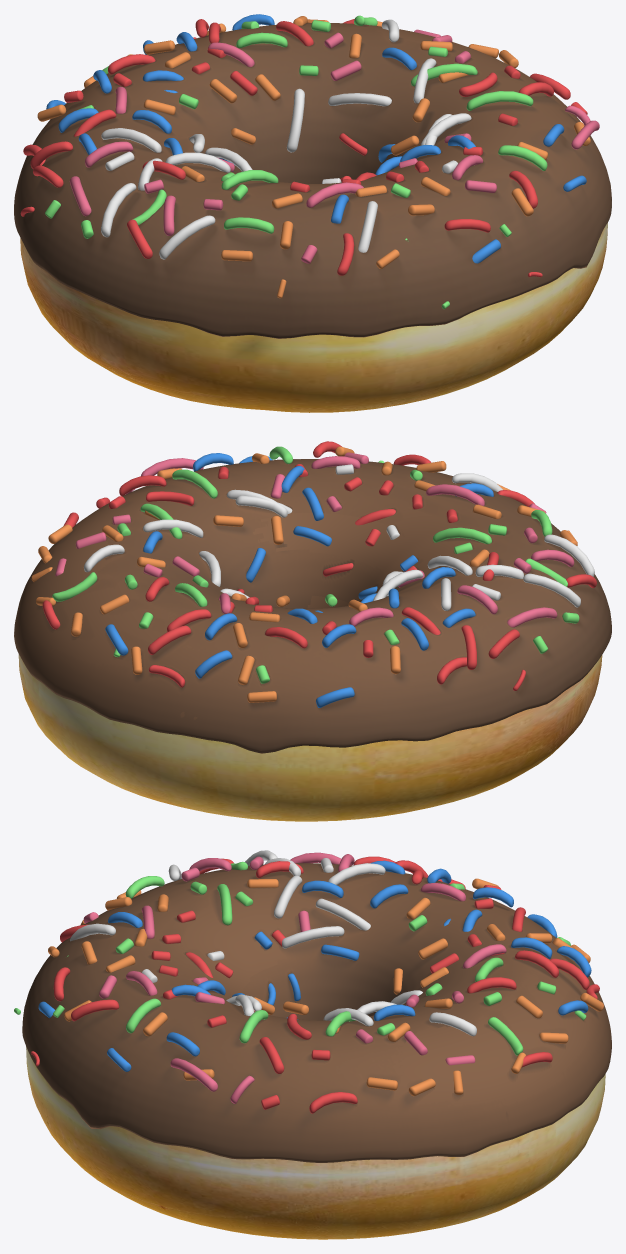
The model's file is coffee rainbow vermicheli.glb.
3 views of the same model, one above another, from view 1: azimuth 30°, elevation 25°; view 2: azimuth 150°, elevation 25°; view 3: azimuth 270°, elevation 25° (orthographic). The views are drawn at different scales.
Visible parts, largest first — view 1: coffee.001, coffee, blue.002, Torus; view 2: coffee, coffee.001, blue.002, Torus; view 3: coffee, coffee.001, Torus, blue.002.
Part boxes in pixels (bbox=[...]): coffee.001: bbox=[14, 22, 611, 338]; coffee: bbox=[14, 23, 611, 338]; blue.002: bbox=[20, 14, 599, 309]; Torus: bbox=[20, 222, 607, 412]; coffee: bbox=[14, 459, 605, 753]; coffee.001: bbox=[14, 459, 611, 753]; blue.002: bbox=[31, 441, 596, 707]; Torus: bbox=[18, 654, 602, 821]; coffee: bbox=[24, 863, 611, 1162]; coffee.001: bbox=[22, 863, 611, 1162]; Torus: bbox=[26, 1046, 605, 1239]; blue.002: bbox=[14, 850, 603, 1113].
Bounding box in the file's own units: 0.1996 × 0.0773 × 0.2006.
9 materials, 2 textured.
